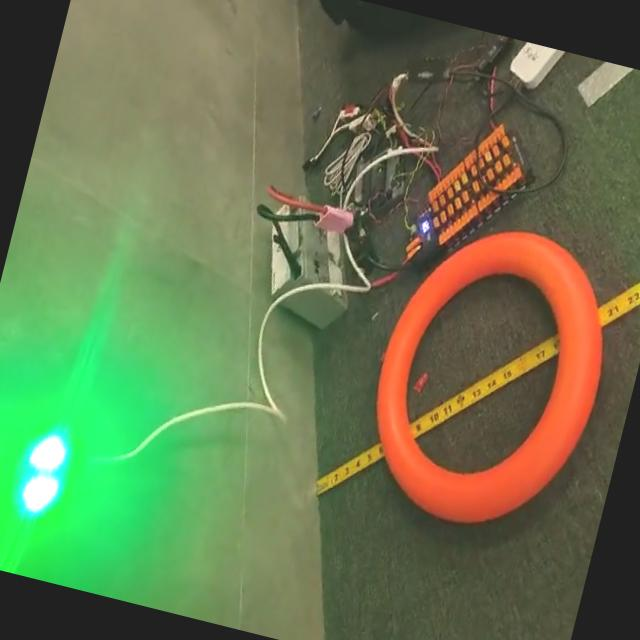note: (346, 208, 634, 556)
